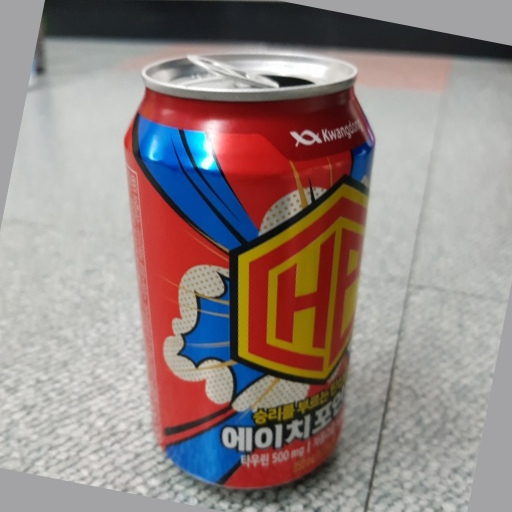Metal_0: (123, 53, 377, 488)
